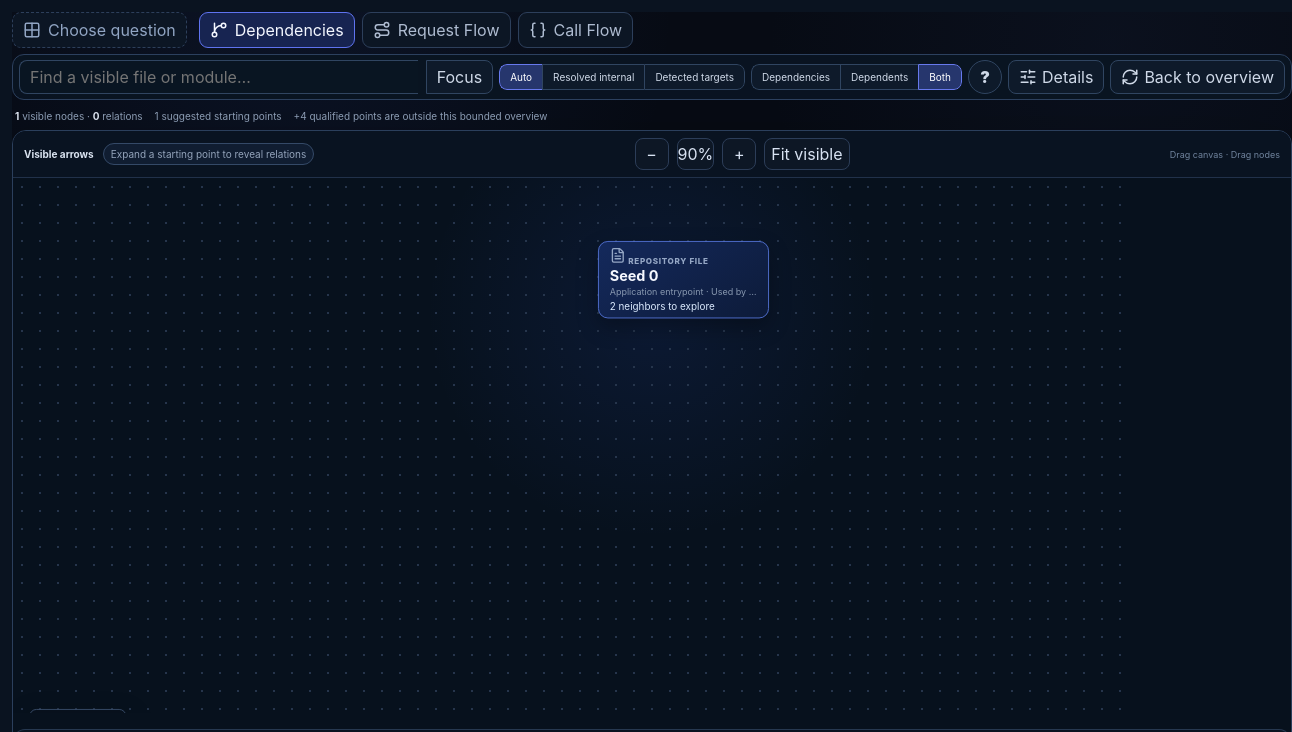
Scenario: GraphPage progressive dependency UX › continues a busy node from the server-provided neighbor offset
Click the button "Seed 0". click: (684, 280)
box: left=598, top=241, right=769, bottom=318
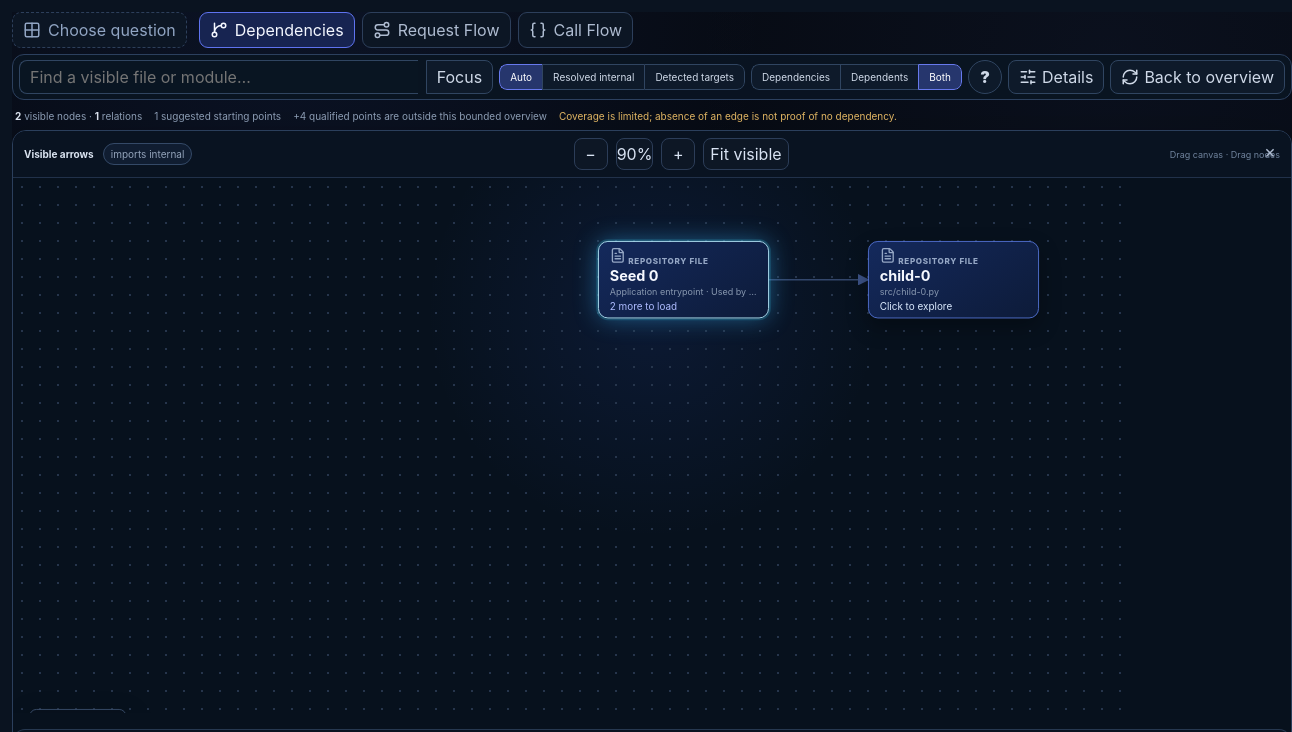
Check: the text "2 more to load" is shown 2 times
Click the button "Seed 0". click: (684, 280)
box: left=598, top=241, right=769, bottom=318
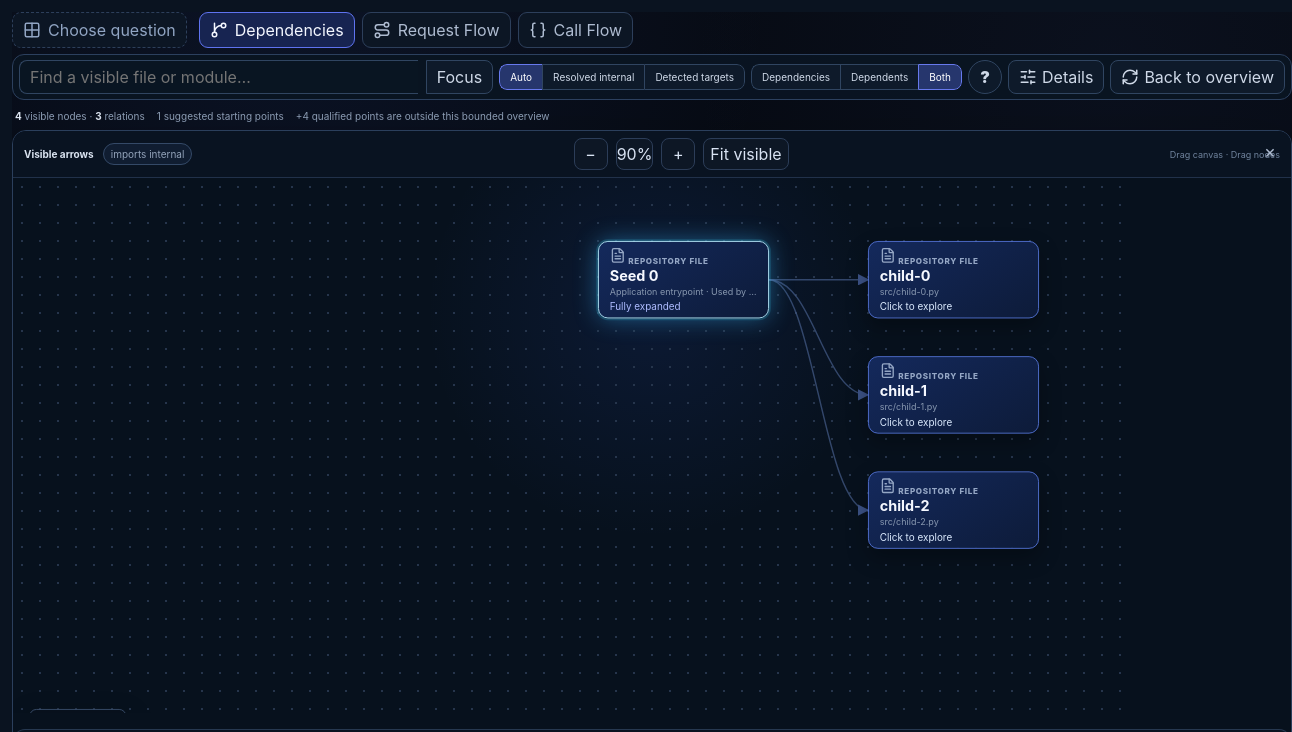
Check: the text "Fully expanded" is shown 2 times
